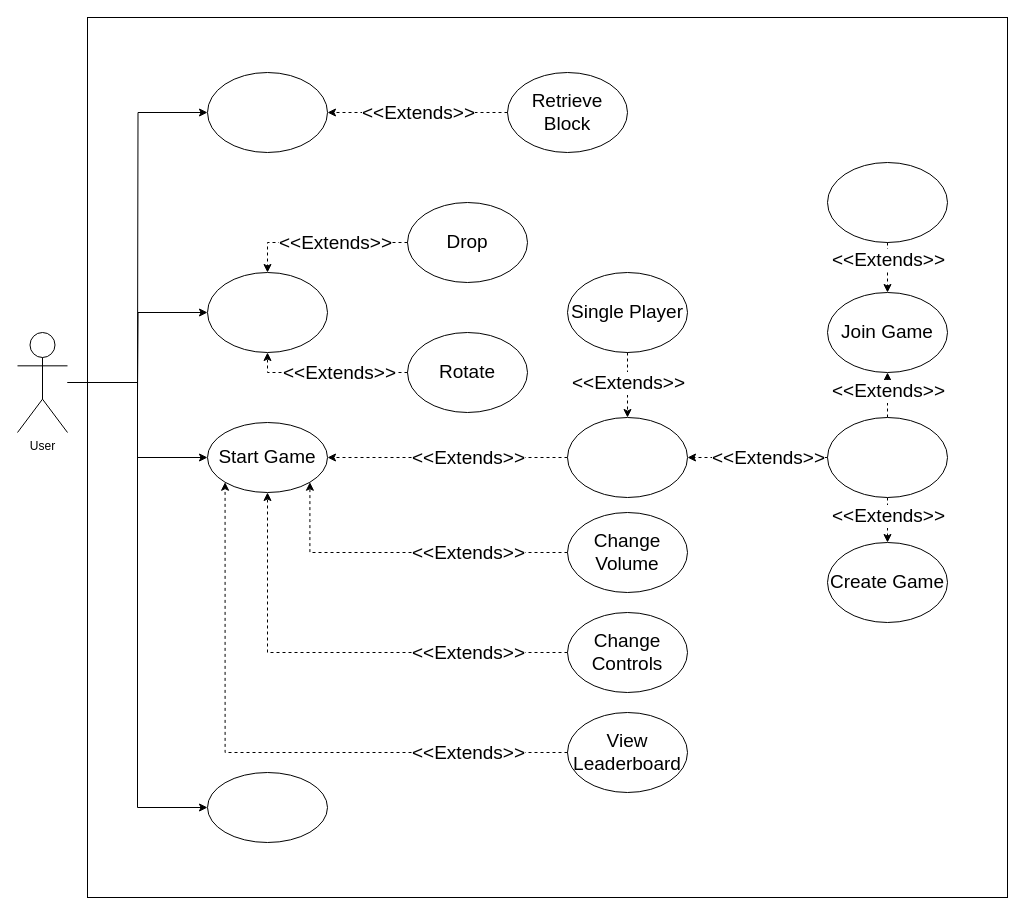
Image size: 1025x915. Some labels were removed from this diagram. The shapes that lost their labels are listed below. From the top down, each one's centre as x and y in pixels, then its label:
the point at 267,112: Hold Tetromino
the point at 887,202: Enter Id
the point at 267,312: Move Tetromino
the point at 627,457: Choose Gamemode
the point at 887,457: Multiplayer
the point at 267,807: Exit Game
